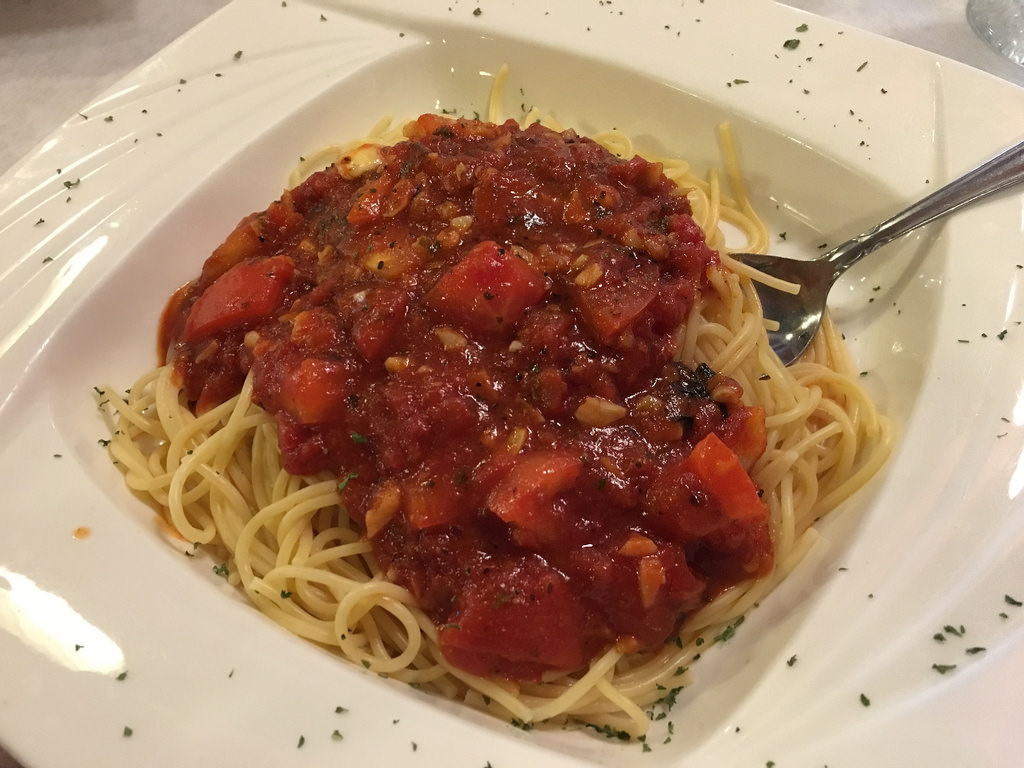plain spaghetti: (160, 404, 352, 599), (732, 320, 819, 453)
